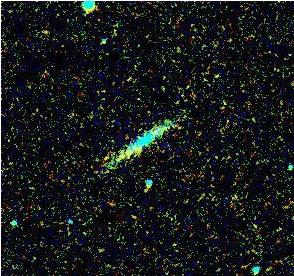star: (131, 174, 161, 204)
